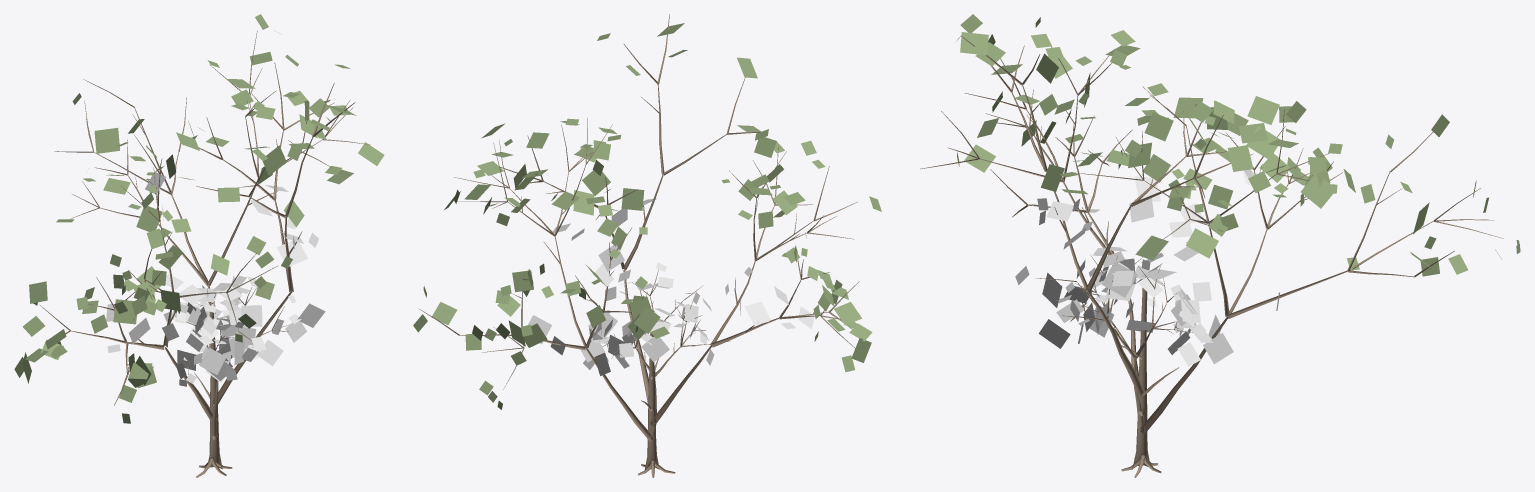
The model's file is tree-a-far.glb.
3 renders of one model, left to right at view 1: azimuth 30°, elevation 25°; view 2: azimuth 150°, elevation 25°; view 3: azimuth 270°, elevation 25°, orthographic. The views are drawn at different scales.
Parts seen in each view (by area): view 1: leaf, leafDeep, wood; view 2: leaf, wood, leafDeep; view 3: leaf, wood, leafDeep.
Part boxes in pixels (left/top/right/bottom): leaf: left=14, top=14, right=384, bottom=423; leafDeep: left=106, top=171, right=325, bottom=386; wood: left=40, top=30, right=370, bottom=477; leaf: left=413, top=23, right=881, bottom=409; wood: left=418, top=14, right=859, bottom=477; leafDeep: left=528, top=198, right=814, bottom=375; leaf: left=957, top=14, right=1520, bottom=276; wood: left=920, top=36, right=1503, bottom=477; leafDeep: left=1015, top=169, right=1279, bottom=366.
Size of the model in its own units: 19.04 by 19.58 by 23.1.
